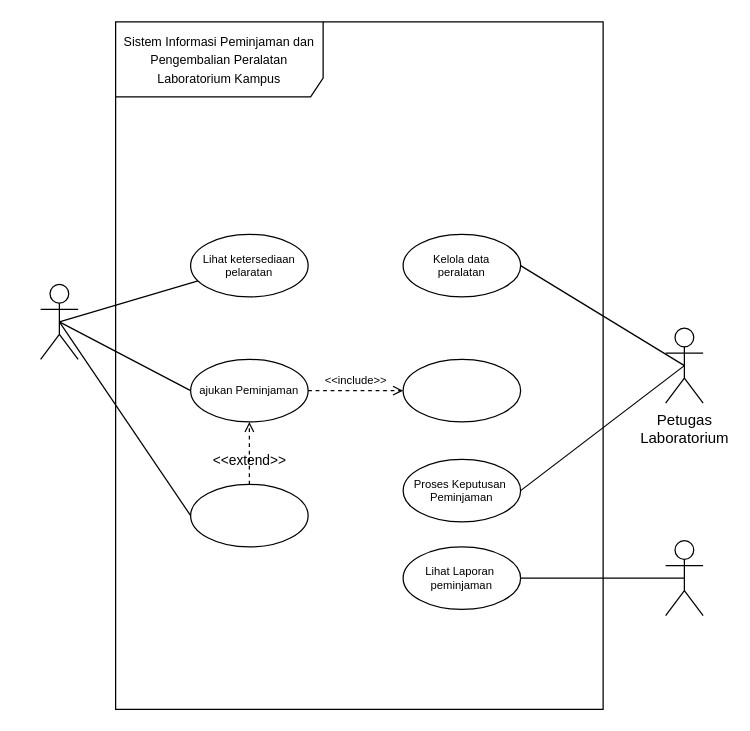
The diagram is 750 pixels wide and 731 high, and some of its shapes have lost their labels. The centre of each missing label's shape, as x and y in pixels:
Cetak Bukti Pengajuan: the point at 248,515
Kepala Laboratorium: the point at 683,577
Mahasiswa: the point at 58,321
Periksa Ketersediaan: the point at 461,390
